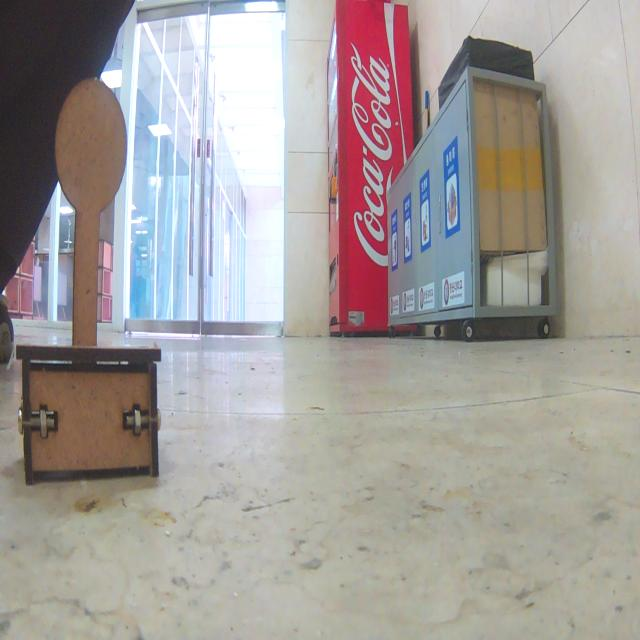target: (16, 77, 163, 486)
